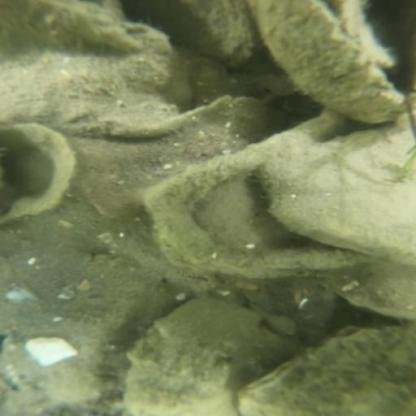Oyster- Indeterminate: (328, 263, 414, 321)
Oyster-Closed: (255, 110, 416, 266), (254, 2, 403, 125), (124, 297, 274, 415), (240, 328, 415, 416), (0, 317, 107, 413), (126, 0, 254, 67), (2, 1, 143, 51)
